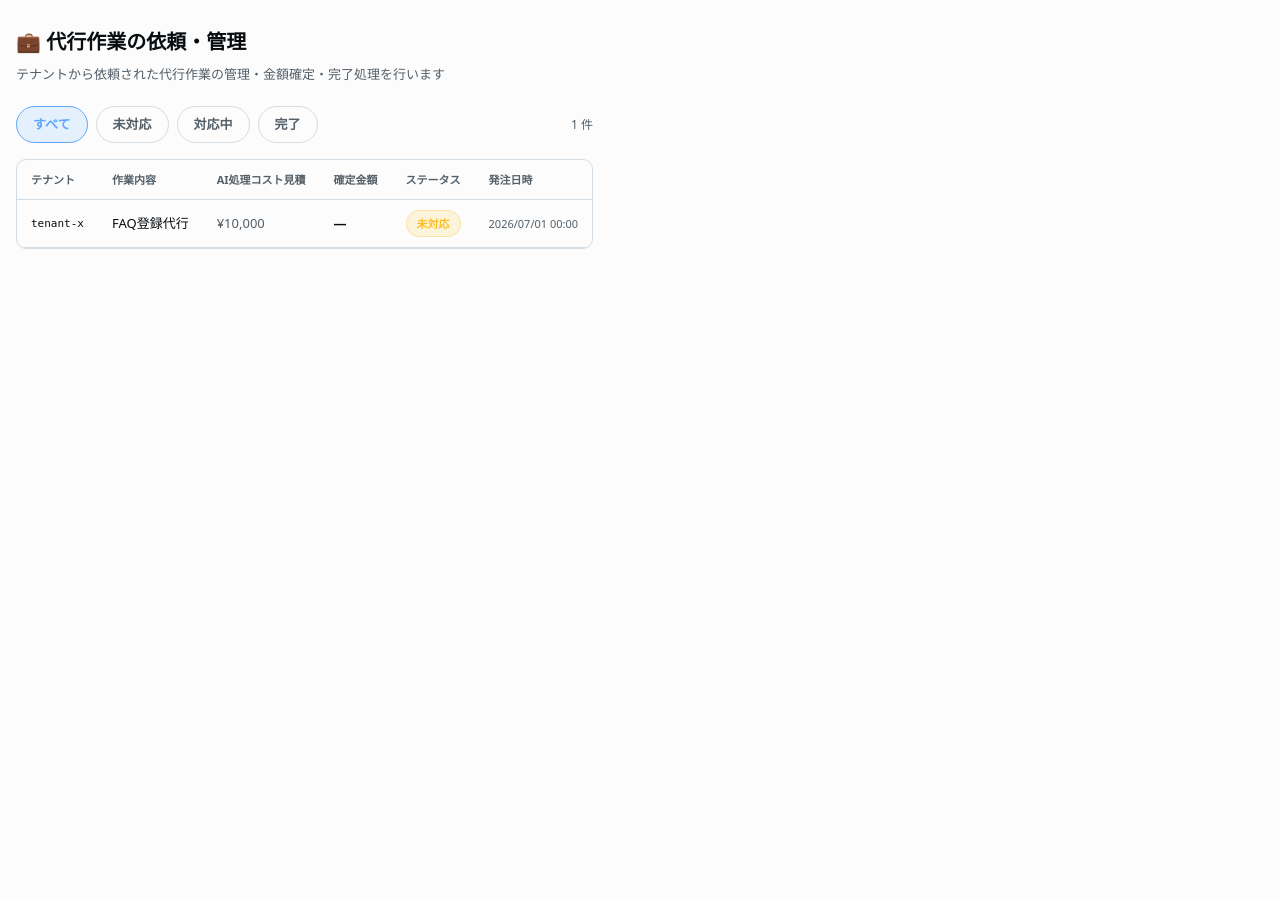
Scenario: OptionManagementPage — Sai(Agent S)セクション › 完了タスクはスクリーンショットと自己申告の注意書きを表示する（自動完了はしない）
Click the text "FAQ登録代行". click: (150, 223)
box: [112,214,189,232]
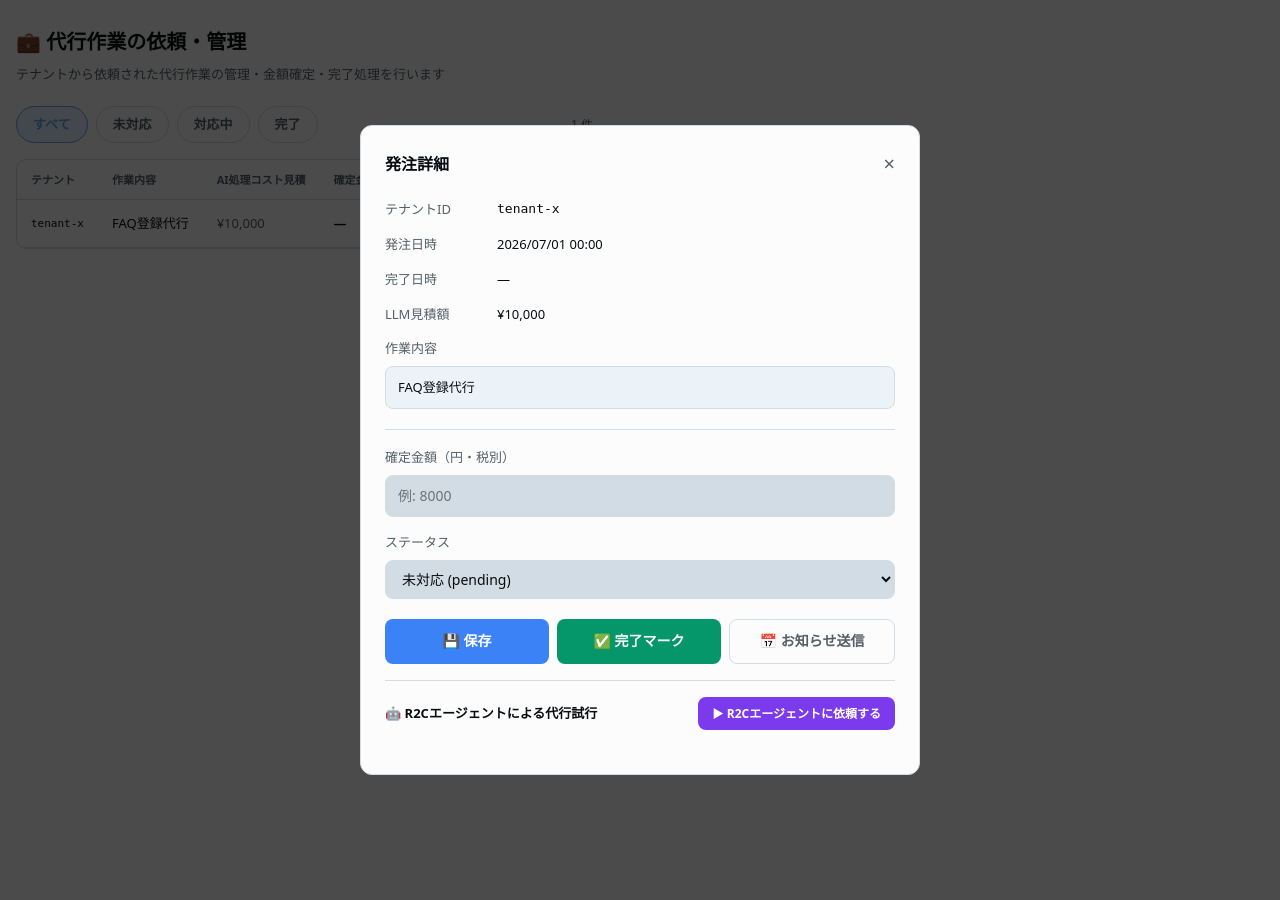
Expected: the button "▶ R2Cエージェントに依頼する" is shown
Click the button "▶ R2Cエージェントに依頼する". click: (797, 713)
box: [698,696,895,730]
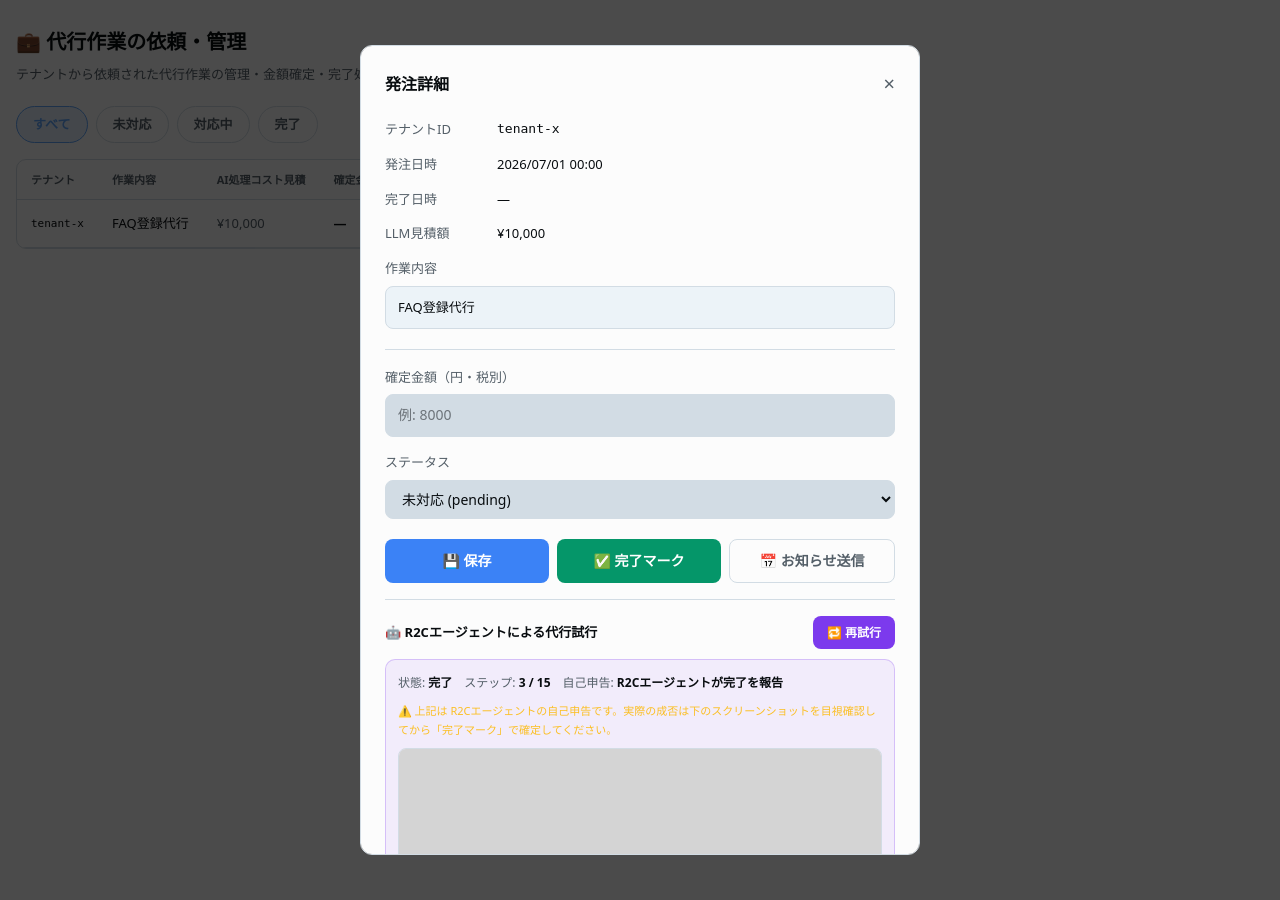
Expected: the button "✅ 完了マーク" is shown, [557,538,721,583]
Expected: the text "R2Cエージェントが完了を報告" is shown, [617,674,783,691]
Expected: the text "実際の成否は下のスクリーンショットを目視確認" is shown, [398,703,876,737]
